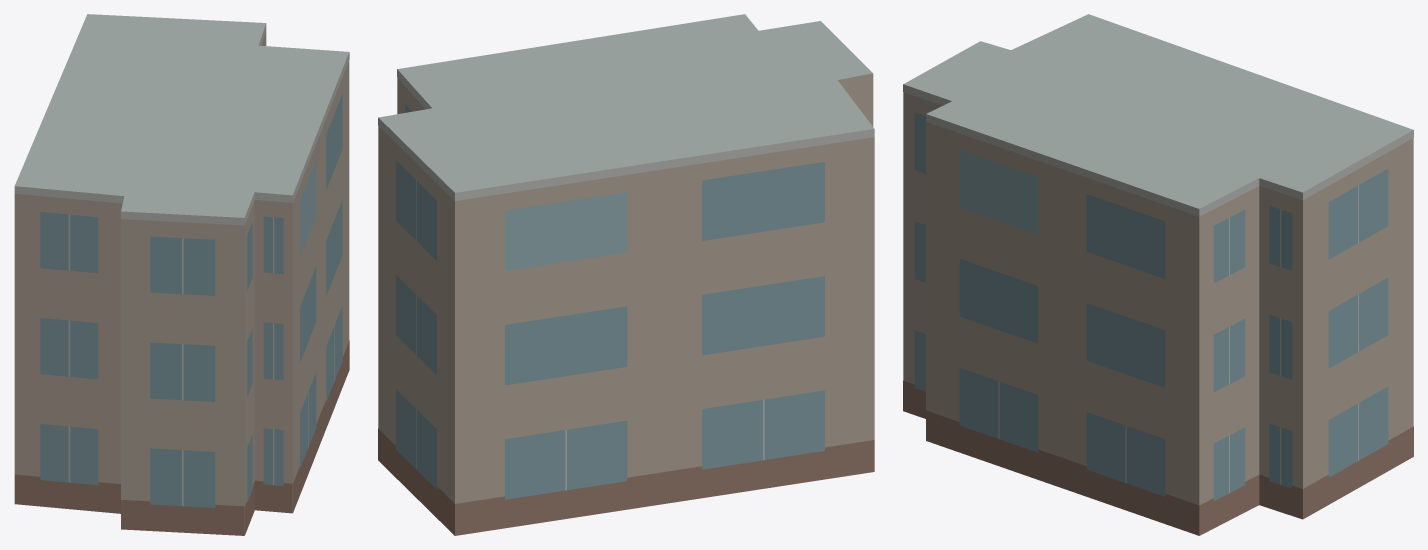
File: survey-upis-32672076.glb
3 renders of one model, left to right at view 1: azimuth 30°, elevation 25°; view 2: azimuth 150°, elevation 25°; view 3: azimuth 270°, elevation 25°, orthographic. The views are drawn at different scales.
Visible parts, largest first — view 1: survey-upis-32672076.tmp; view 2: survey-upis-32672076.tmp; view 3: survey-upis-32672076.tmp.
Boxes of the visible parts, x1,y1,x2,y2 form: survey-upis-32672076.tmp: [14, 14, 349, 535]; survey-upis-32672076.tmp: [378, 14, 874, 535]; survey-upis-32672076.tmp: [903, 14, 1413, 535].
Size of the model in its own units: 13.06 by 10.2 by 14.45.
